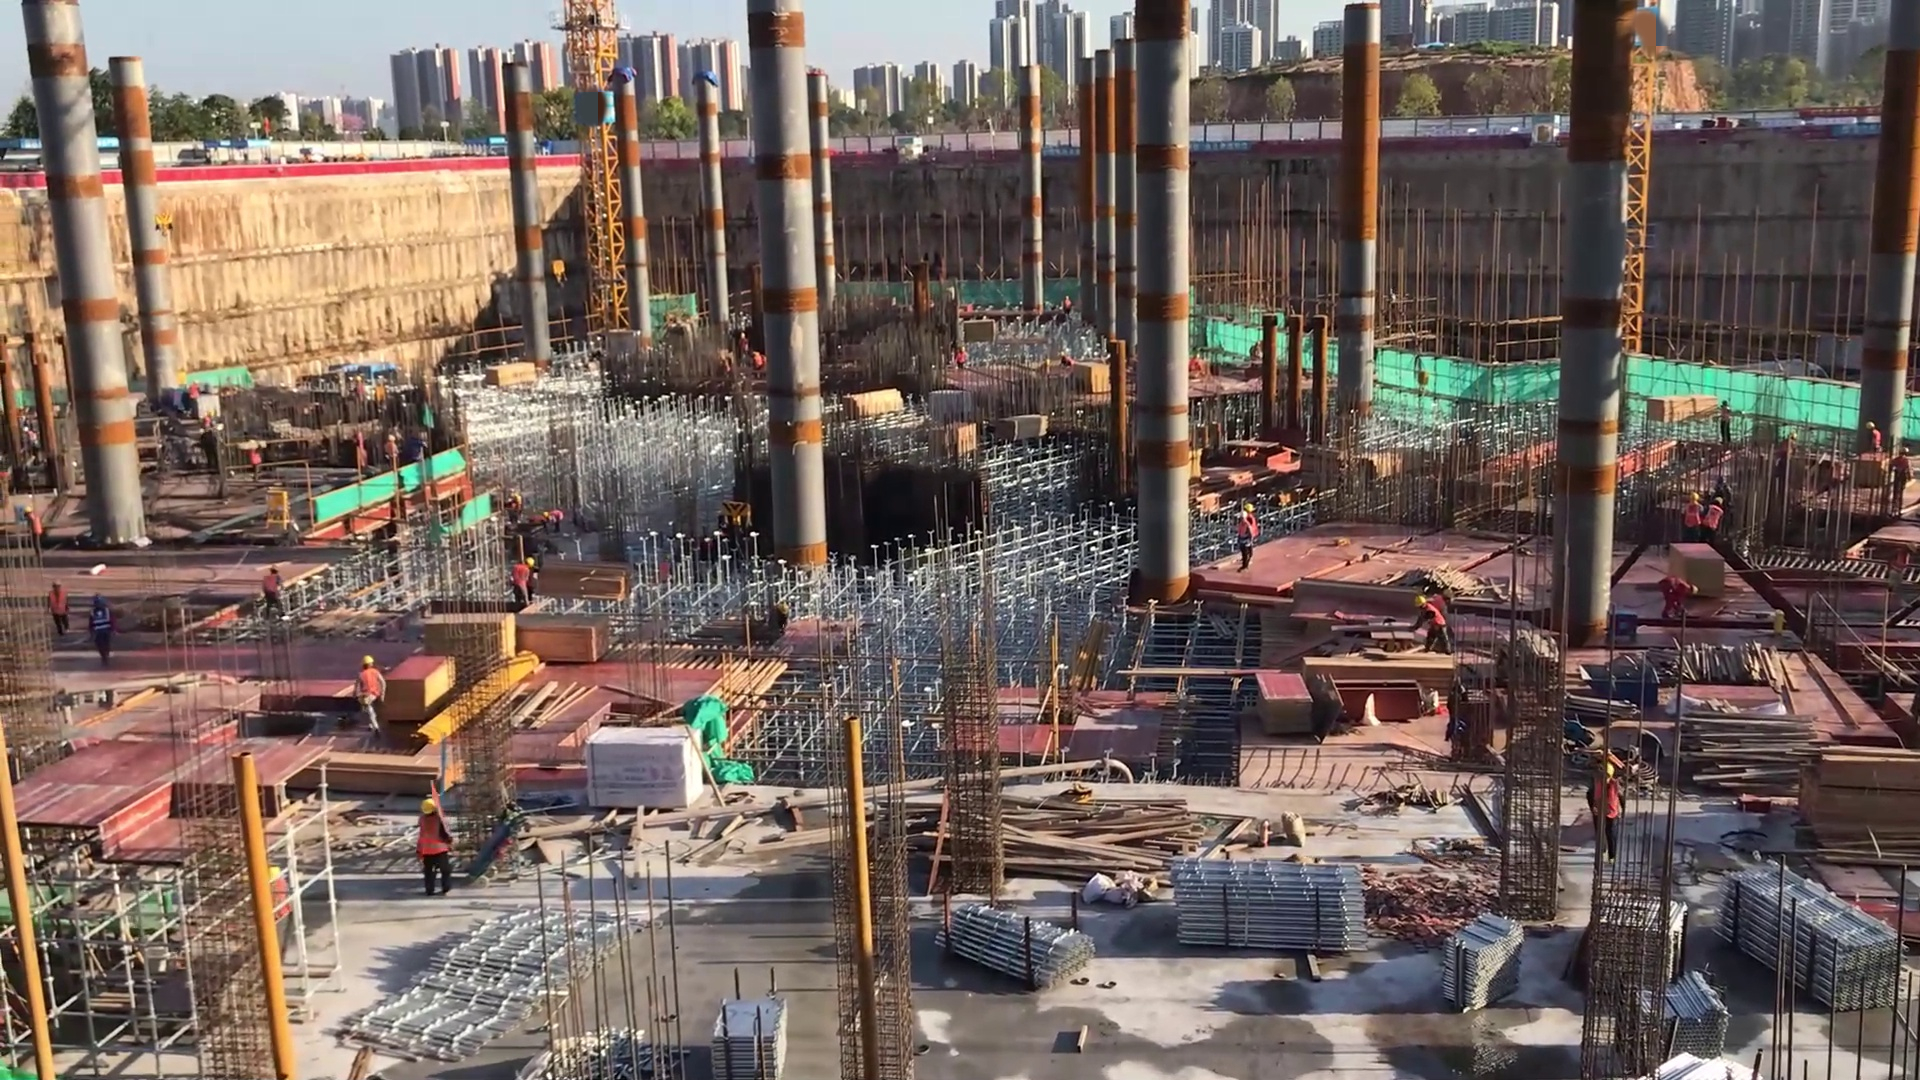board: (422, 609, 523, 677), (384, 654, 462, 722), (1851, 900, 1920, 961), (1257, 673, 1317, 737), (1076, 359, 1115, 397)
ebox: (262, 482, 297, 534)
helmet: (420, 796, 442, 820), (1596, 762, 1619, 784), (1412, 593, 1432, 610), (22, 502, 36, 519), (94, 594, 107, 611), (521, 554, 538, 567), (361, 654, 376, 668), (1689, 488, 1700, 505), (1688, 580, 1699, 597), (1712, 494, 1723, 507), (53, 579, 66, 589), (270, 563, 281, 574), (540, 508, 550, 520), (388, 433, 396, 444), (1245, 502, 1254, 512)
hook: (1576, 666, 1672, 707), (545, 249, 576, 294), (150, 201, 181, 242)
person: (341, 646, 395, 745), (410, 791, 456, 905), (1590, 754, 1630, 880), (84, 594, 128, 690), (1400, 589, 1454, 656), (1658, 574, 1698, 623), (508, 553, 540, 611), (47, 576, 77, 639), (1889, 443, 1913, 504), (22, 504, 46, 565), (1702, 492, 1726, 550), (1241, 502, 1263, 560), (262, 564, 283, 621), (1683, 485, 1703, 543), (536, 507, 568, 541), (1862, 416, 1885, 463), (245, 438, 265, 485), (1238, 511, 1251, 581), (380, 434, 401, 474), (1719, 397, 1733, 446), (1781, 431, 1800, 464), (955, 343, 970, 375), (739, 329, 751, 359), (1058, 347, 1076, 368), (752, 352, 765, 376)
scaffold: (1706, 842, 1905, 1038), (1177, 852, 1374, 958), (931, 889, 1104, 995), (1623, 962, 1737, 1080), (1436, 902, 1529, 1031)
slogan: (1184, 138, 1262, 156), (1036, 141, 1095, 163), (1829, 120, 1886, 135)
vest: (1592, 779, 1622, 822), (419, 816, 447, 859), (360, 668, 384, 706), (1423, 603, 1448, 635), (49, 587, 69, 621), (1703, 503, 1723, 533), (91, 609, 113, 637), (1667, 575, 1690, 599), (1685, 503, 1702, 529), (264, 572, 278, 601), (514, 563, 529, 592), (1871, 429, 1881, 451)
wood: (1001, 798, 1196, 880), (1796, 740, 1920, 860), (1680, 702, 1813, 800), (1300, 648, 1462, 697), (305, 754, 459, 792), (518, 612, 610, 666), (531, 557, 632, 601), (843, 387, 907, 427), (486, 355, 540, 402), (1641, 390, 1696, 427), (1001, 410, 1052, 449)
